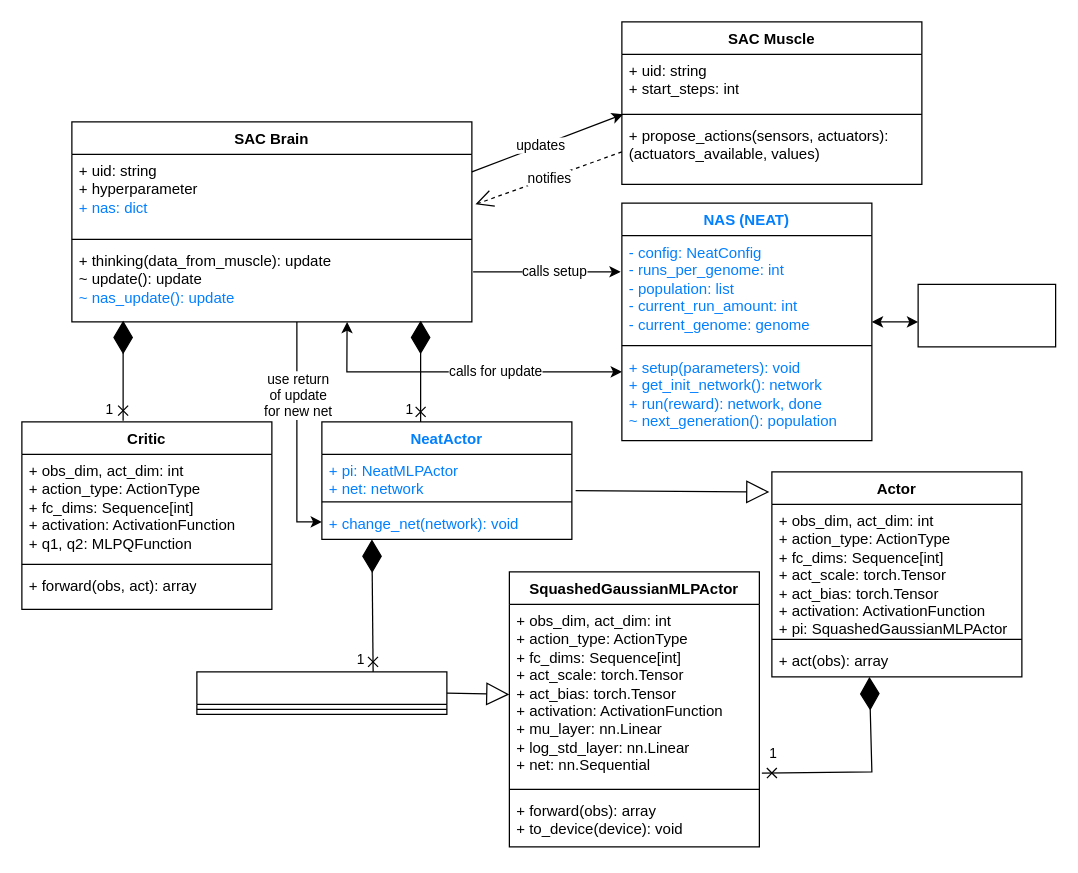
This 1078x873 diagram has some shape labels left out. Here are the shapes that lost their labels. From the top down, the centre of each, then its label:
At (986,315): "NEAT Implementation".
At (321,692): "NeatMLPActor".
